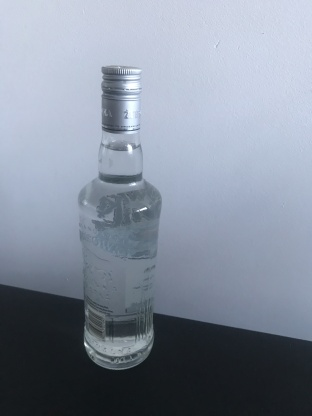nakretka: (99, 63, 143, 135)
